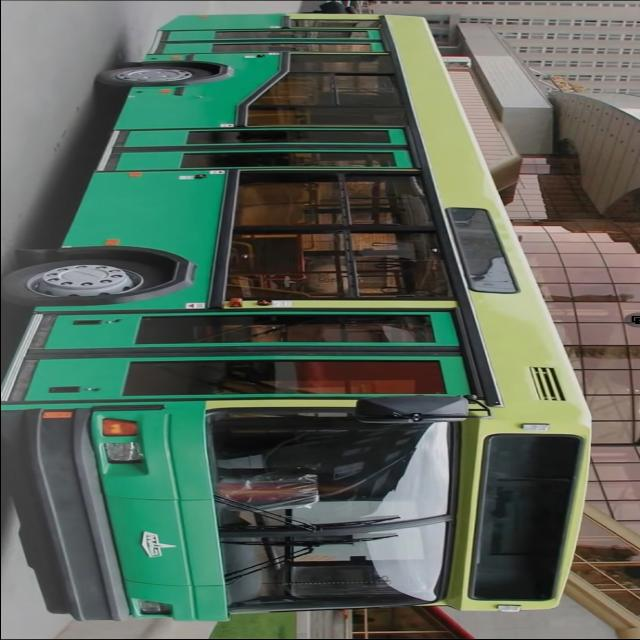bus: (1, 12, 600, 623)
